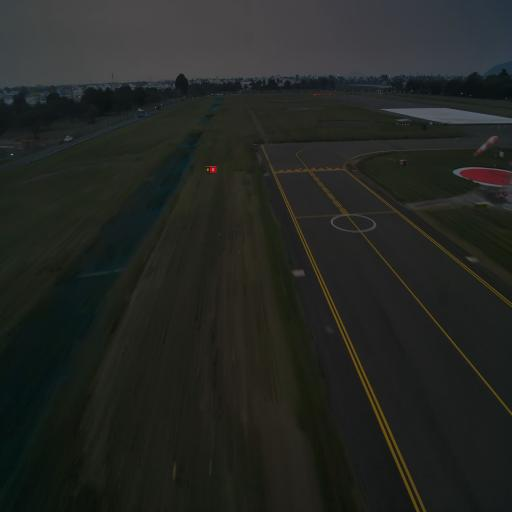on: (300, 167, 302, 171), (313, 165, 315, 169), (326, 166, 328, 170)
